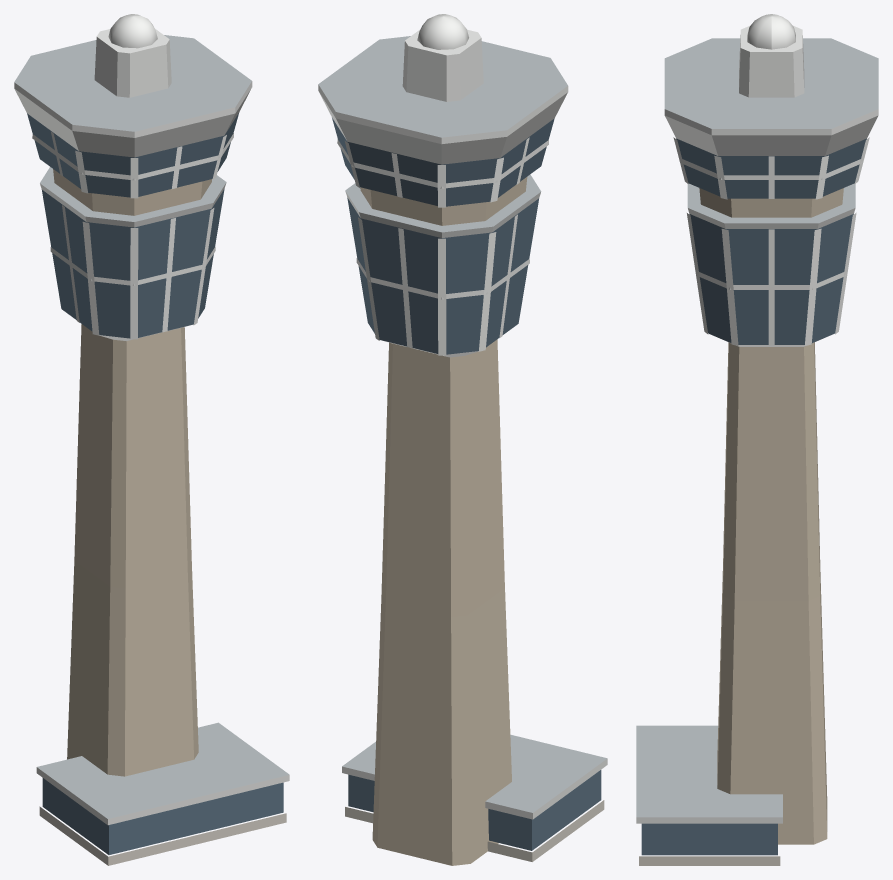
File: incheon-airport-control-tower.glb
The picture shows the model from 3 angles, left to right: view 1: azimuth 30°, elevation 25°; view 2: azimuth 150°, elevation 25°; view 3: azimuth 270°, elevation 25°; orthographic projection. The views are drawn at different scales.
Parts seen in each view (by area): view 1: Incheon International Airport Control Tower; view 2: Incheon International Airport Control Tower; view 3: Incheon International Airport Control Tower.
Boxes of the visible parts, x1,y1,x2,y2 form: Incheon International Airport Control Tower: [14, 14, 289, 865]; Incheon International Airport Control Tower: [318, 14, 607, 865]; Incheon International Airport Control Tower: [636, 14, 878, 865].
Bounding box in the file's own units: 24.48 × 100 × 27.4.
